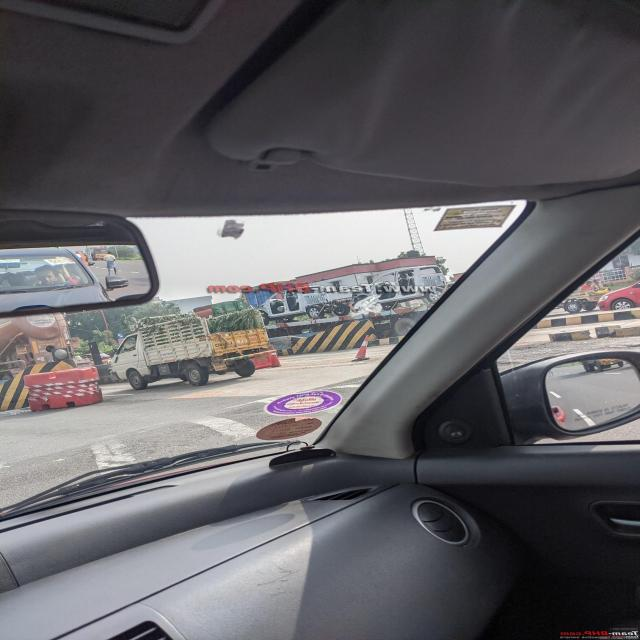truck: (112, 314, 275, 390)
